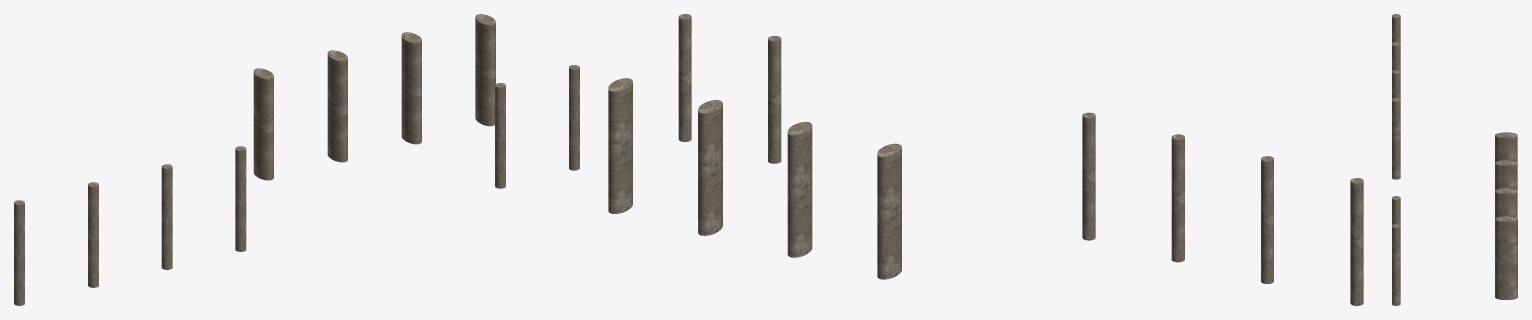
The model's file is Columnas_Entorno.obj.
3 views of the same model, side by side, from view 1: azimuth 30°, elevation 25°; view 2: azimuth 150°, elevation 25°; view 3: azimuth 270°, elevation 25° (orthographic). The views are drawn at different scales.
Visible parts, largest first — view 1: Columnas_Entorno; view 2: Columnas_Entorno; view 3: Columnas_Entorno.
Boxes of the visible parts, left/top/right/bottom form: Columnas_Entorno: left=14, top=14, right=579, bottom=305; Columnas_Entorno: left=608, top=14, right=1363, bottom=305; Columnas_Entorno: left=1392, top=14, right=1517, bottom=305.
Size of the model in its own units: 35.09 by 6 by 8.73.
1 material, 1 textured.
